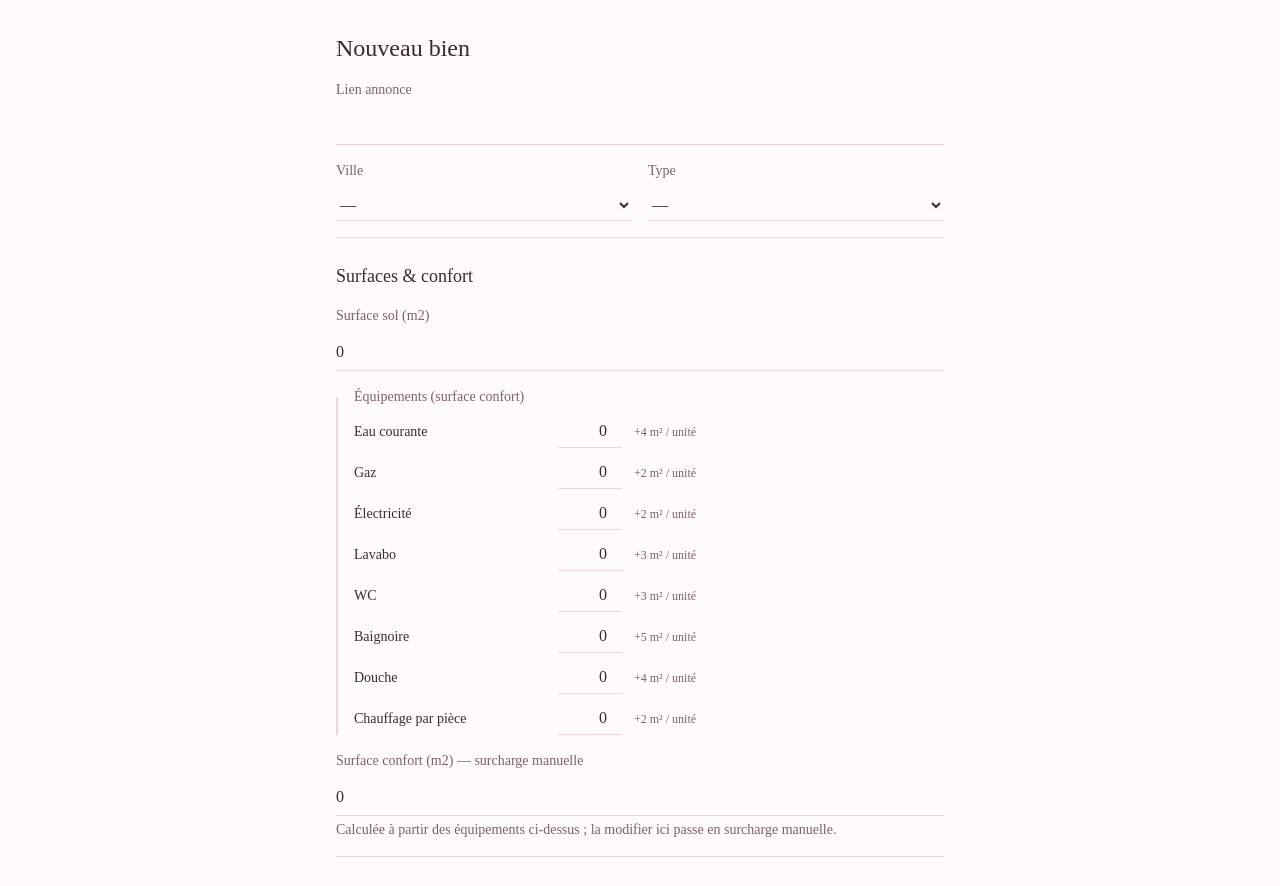
BienDetailPage › stays on the form and shows the conflict modal when the save conflicts
Replace the text in the number field labelled "Surface sol (m2)" with "95" at (640, 352), box top-left (336, 334), bottom-right (944, 371)
(page scrolled)
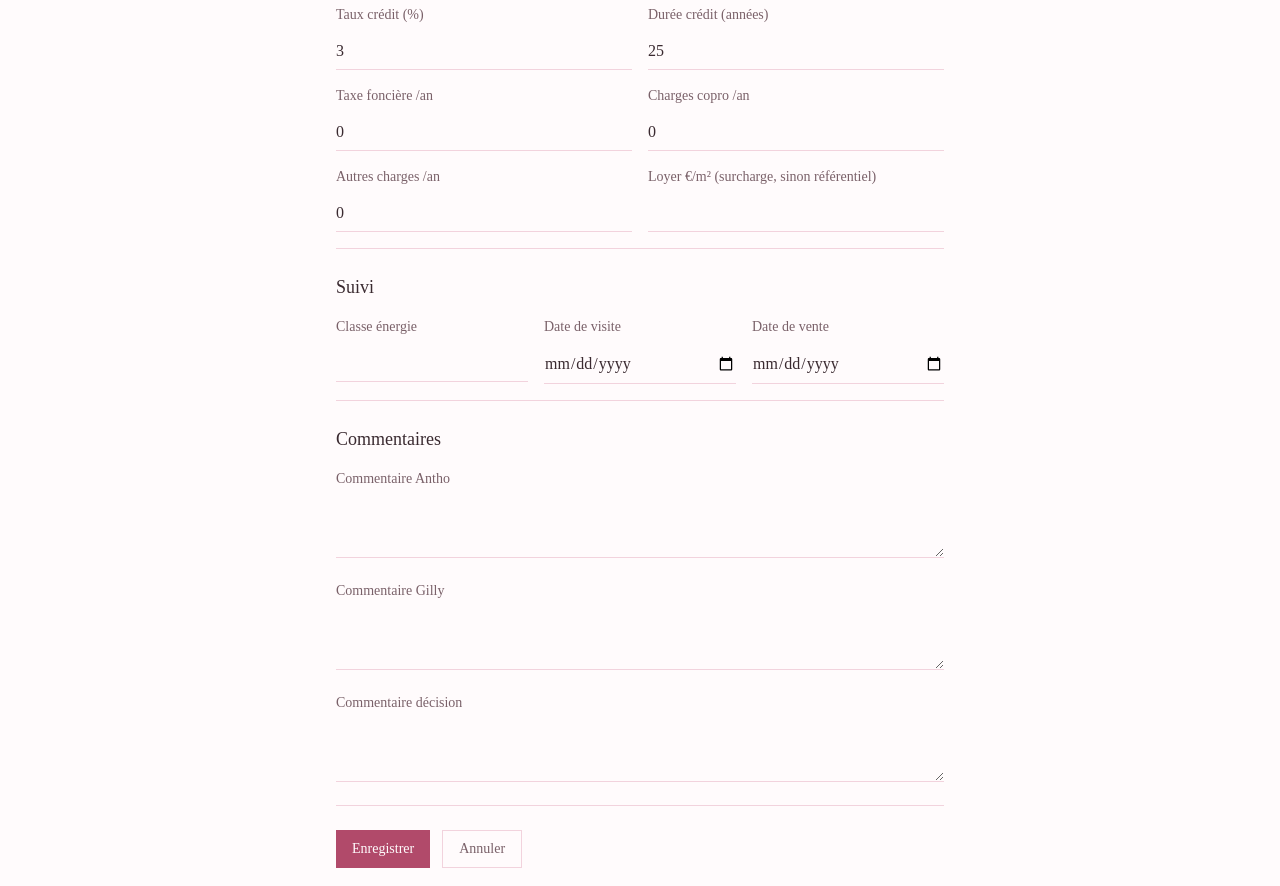
Click the button "Enregistrer" at (383, 849), box top-left (336, 830), bottom-right (430, 868)
(page scrolled)
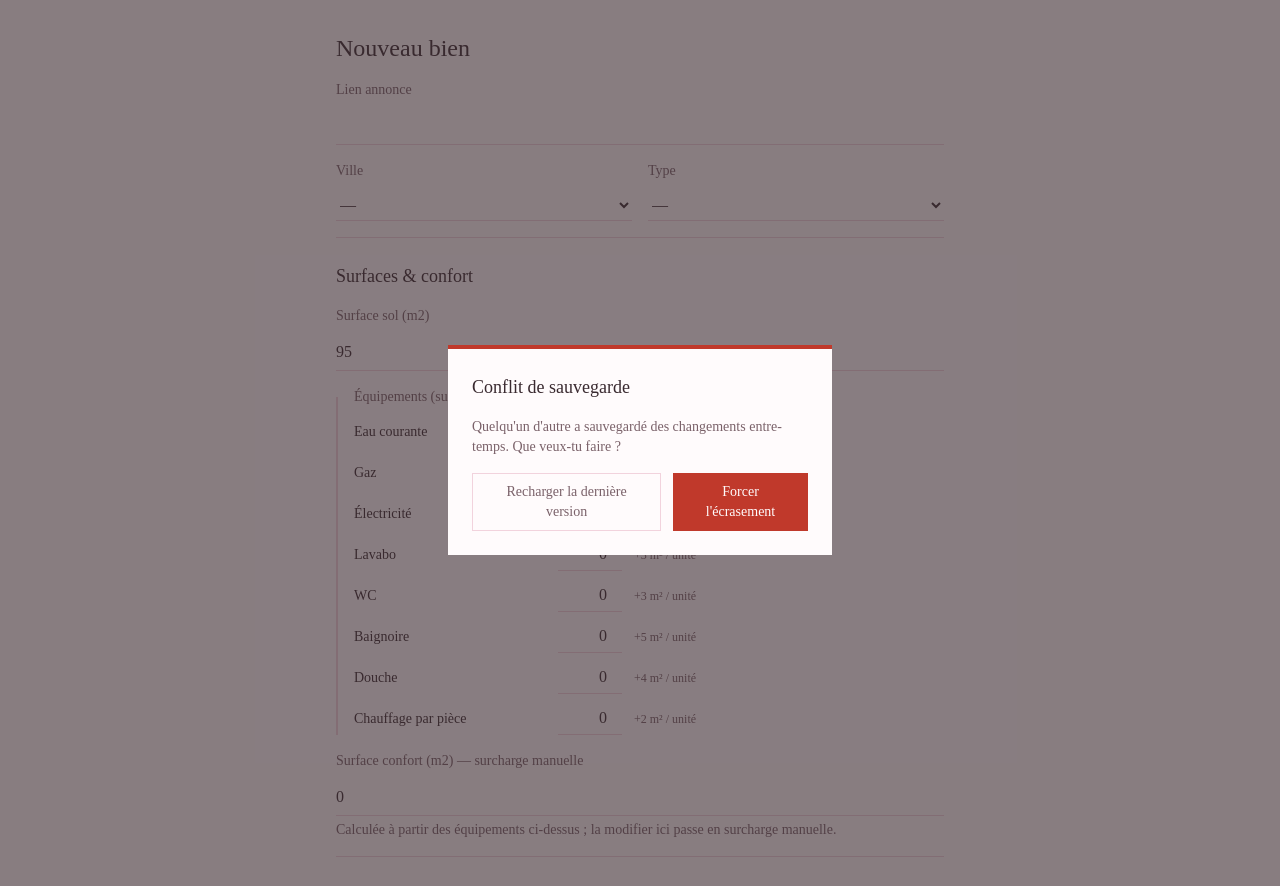
Expected: the heading "Conflit de sauvegarde" is shown, top-left (472, 377), bottom-right (630, 397)
